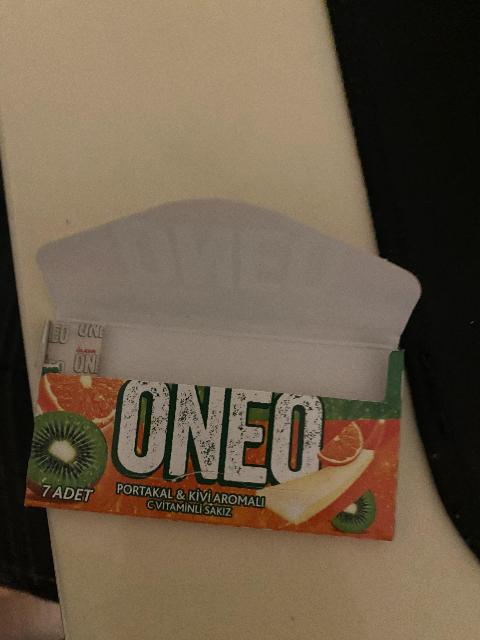Kagit: (22, 201, 423, 545)
